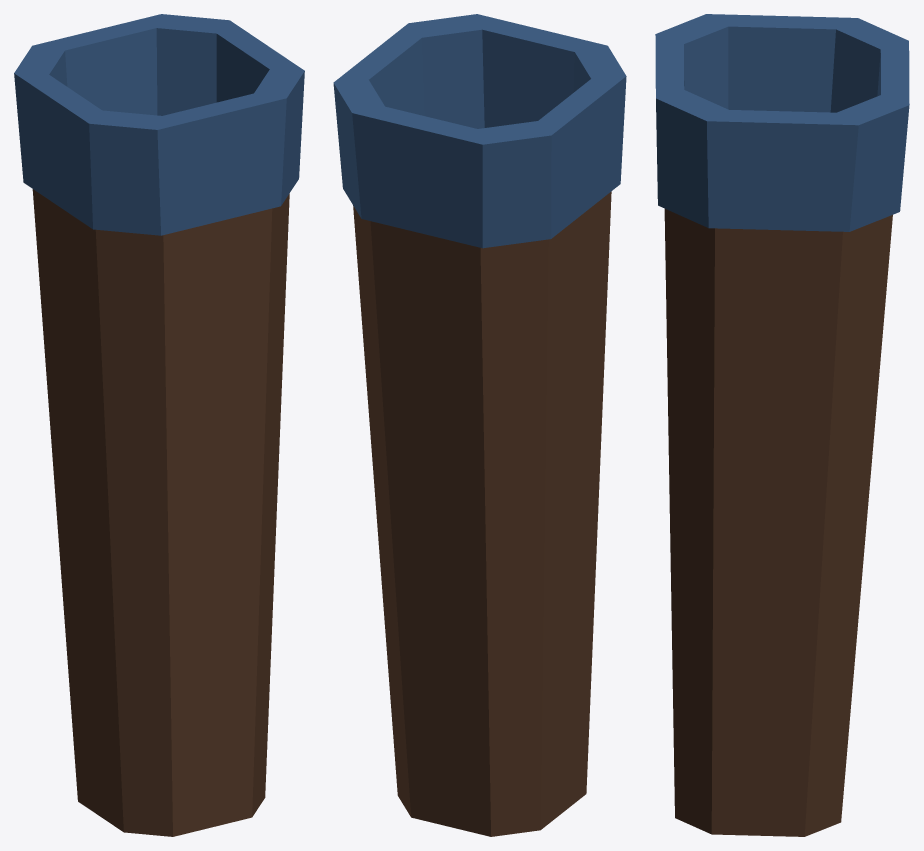
The model's file is Quiver_Blue.glb.
The picture shows the model from 3 angles, left to right: view 1: azimuth 30°, elevation 25°; view 2: azimuth 150°, elevation 25°; view 3: azimuth 270°, elevation 25°; orthographic projection.
Visible parts, largest first — view 1: Quiver_Blue; view 2: Quiver_Blue; view 3: Quiver_Blue.
Part boxes in pixels (<box>): Quiver_Blue: <box>14,14,304,836</box>; Quiver_Blue: <box>333,14,626,836</box>; Quiver_Blue: <box>655,14,909,836</box>.
Size of the model in its own units: 0.1264 by 0.4043 by 0.1263.
1 material, 1 textured.
